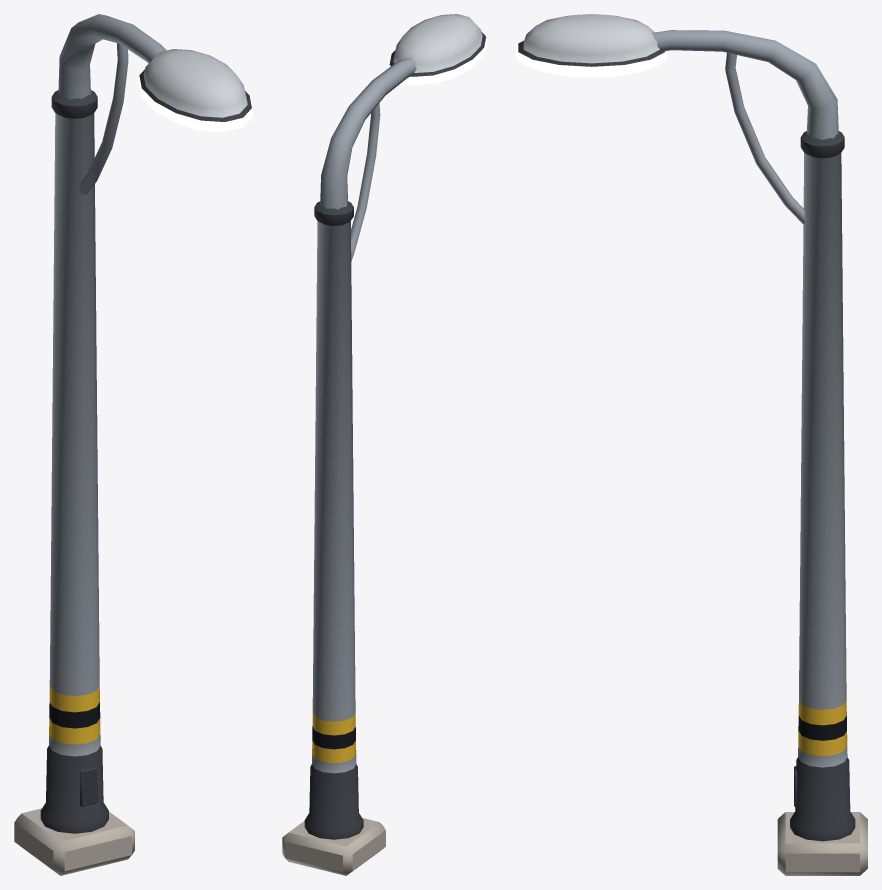
The model's file is prop_street_lamp.glb.
The picture shows the model from 3 angles, left to right: view 1: azimuth 30°, elevation 25°; view 2: azimuth 150°, elevation 25°; view 3: azimuth 270°, elevation 25°; orthographic projection. The views are drawn at different scales.
Parts seen in each view (by area): view 1: body; view 2: body; view 3: body.
Boxes of the visible parts, bbox=[...] form: body: bbox=[14, 14, 253, 875]; body: bbox=[282, 14, 487, 875]; body: bbox=[516, 14, 867, 875].
Bounding box in the file's own units: 0.8214 × 8.22 × 3.12.
